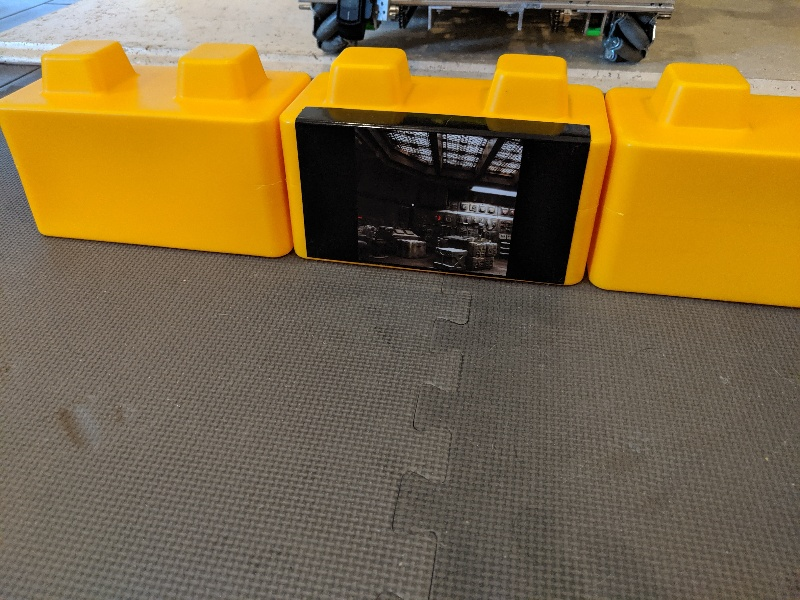Skystone: (290, 93, 588, 294)
